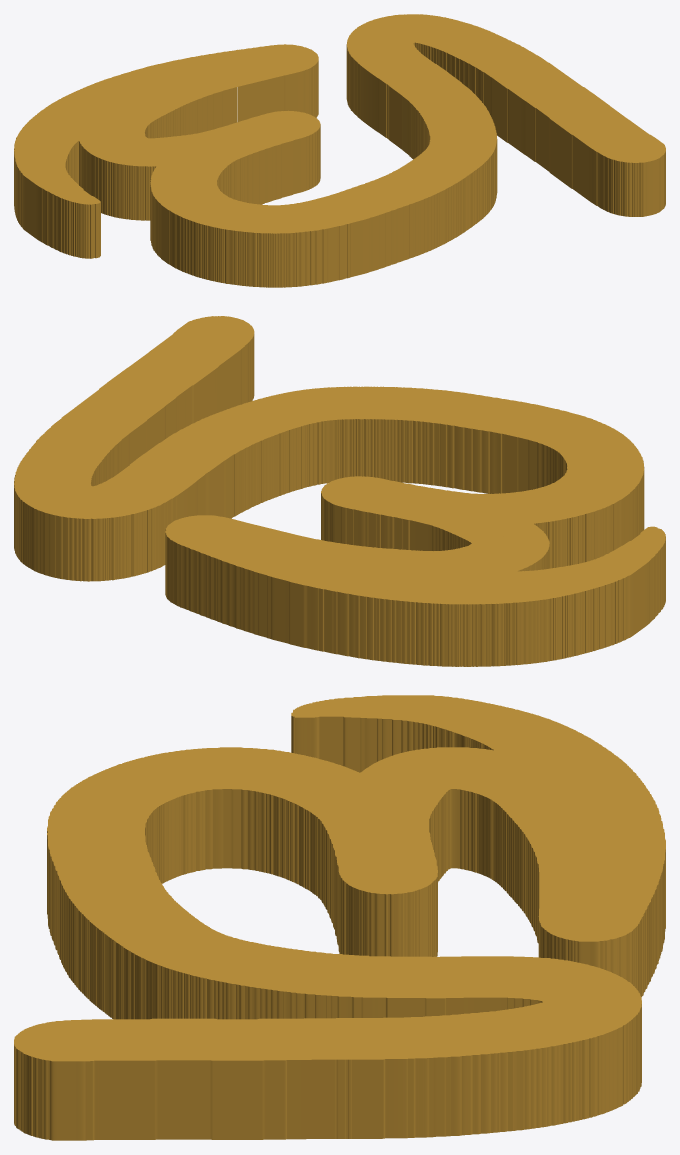
3 views of the same model, one above another, from view 1: azimuth 30°, elevation 25°; view 2: azimuth 150°, elevation 25°; view 3: azimuth 270°, elevation 25° (orthographic). The views are drawn at different scales.
Parts seen in each view (by area): view 1: Curve.010; view 2: Curve.010; view 3: Curve.010.
Boxes of the visible parts, x1,y1,x2,y2 form: Curve.010: [14, 14, 665, 287]; Curve.010: [14, 316, 665, 666]; Curve.010: [14, 695, 665, 1140].
Size of the model in its own units: 95.69 by 9.66 by 72.
